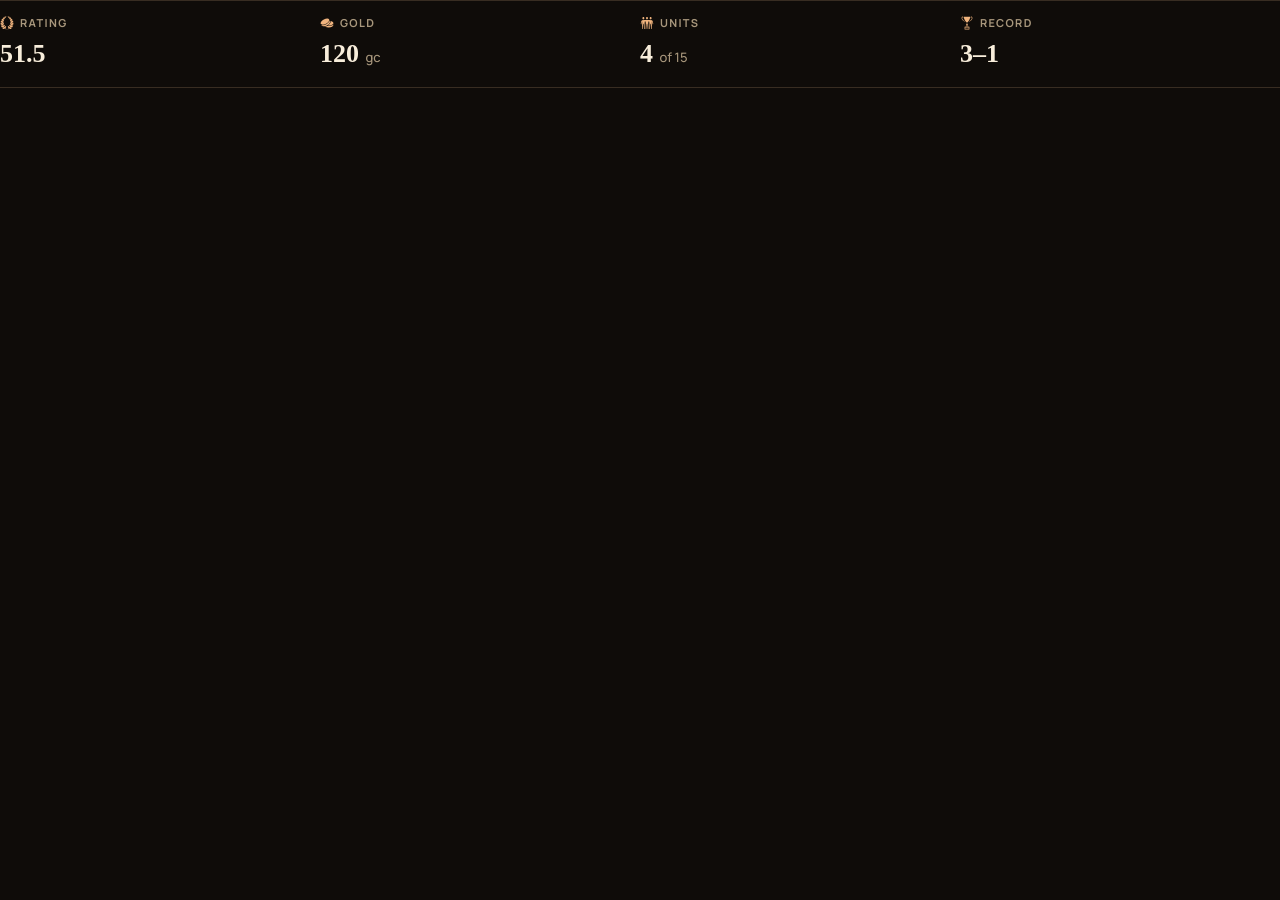
Test: The header's windows › shows the last ten trades and opens the Treasury
Later steps or results of the test are not shown.
Click the button with aria-label "Gold 120 gc" at (340,53), box [320,34,628,72]
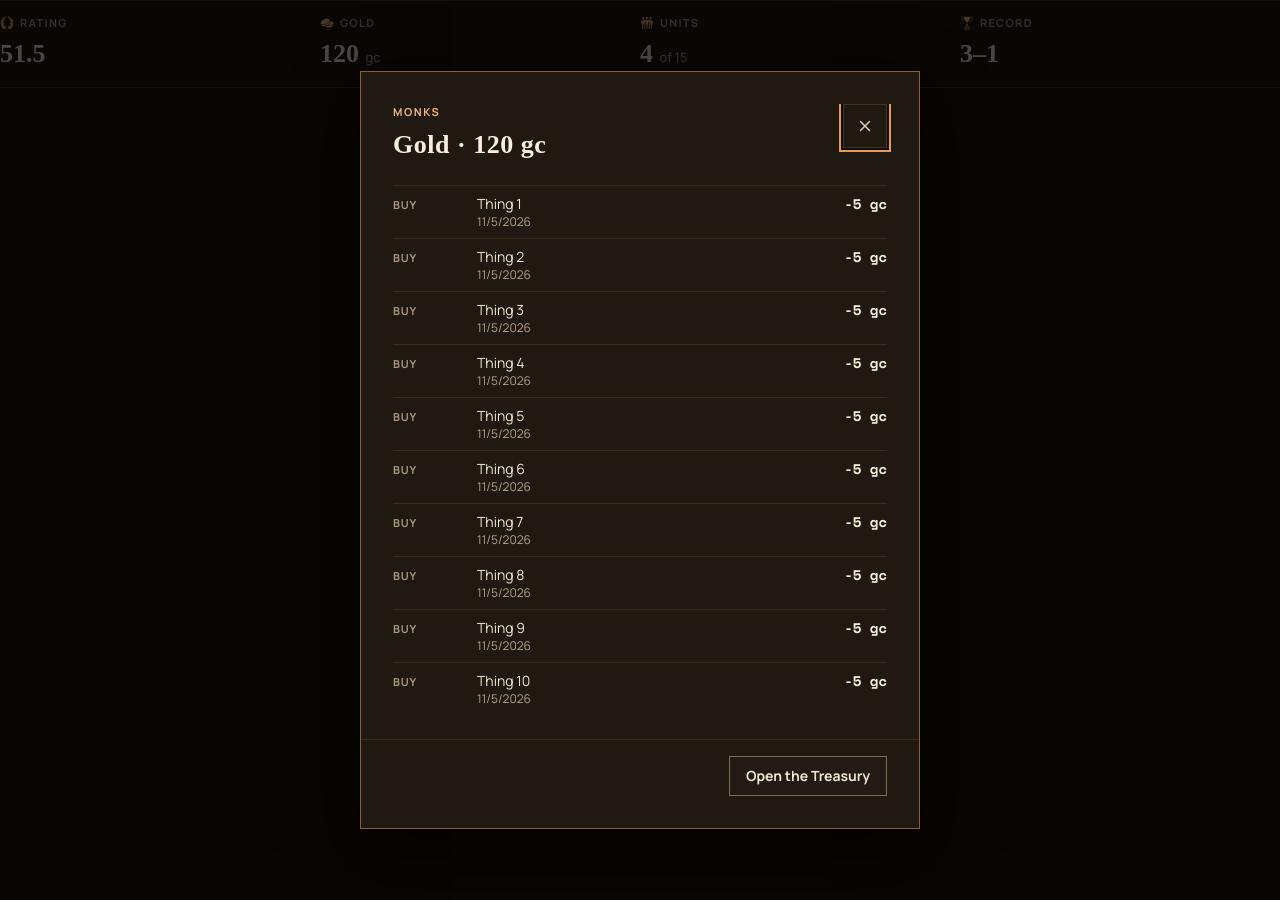
Result: the number of list items is 10
